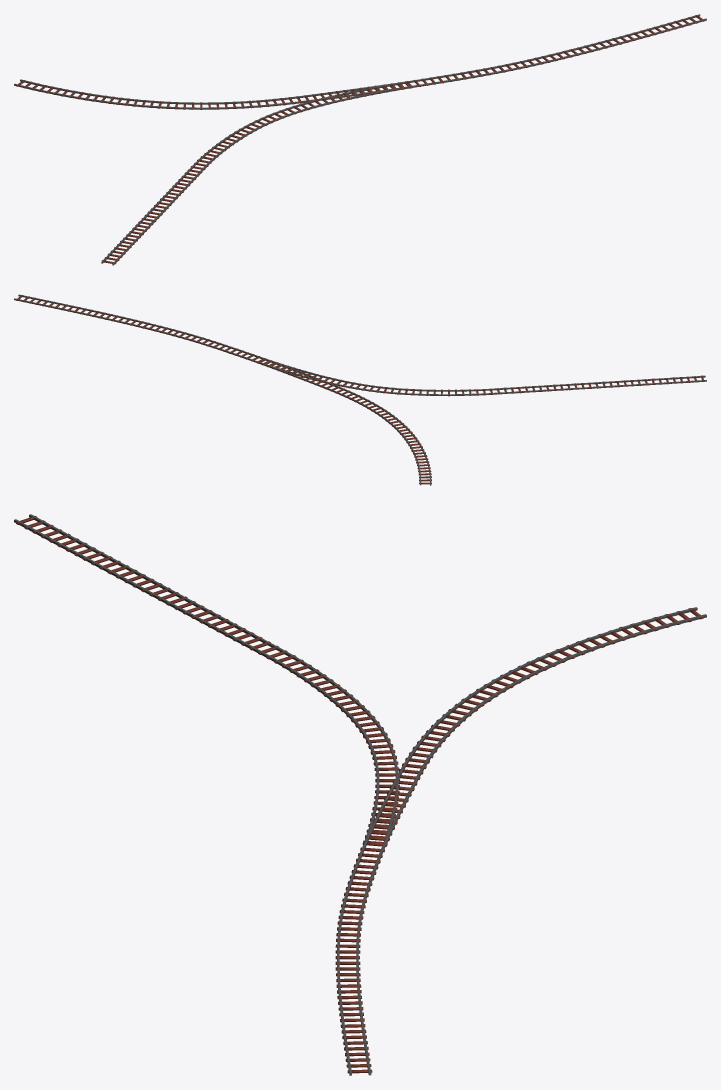
File: Tracks.fbx
3 renders of one model, top to bottom at view 1: azimuth 30°, elevation 25°; view 2: azimuth 150°, elevation 25°; view 3: azimuth 270°, elevation 25°, orthographic. The views are drawn at different scales.
Parts seen in each view (by area): view 1: Tracks; view 2: Tracks; view 3: Tracks.
Boxes of the visible parts, left/top/right/bottom form: Tracks: left=14, top=14, right=706, bottom=265; Tracks: left=14, top=294, right=706, bottom=485; Tracks: left=14, top=514, right=706, bottom=1075.
Size of the model in its own units: 7150 by 13.95 by 3744.
